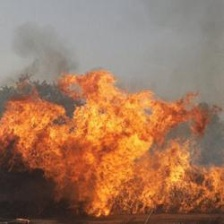fire: (4, 100, 223, 207)
